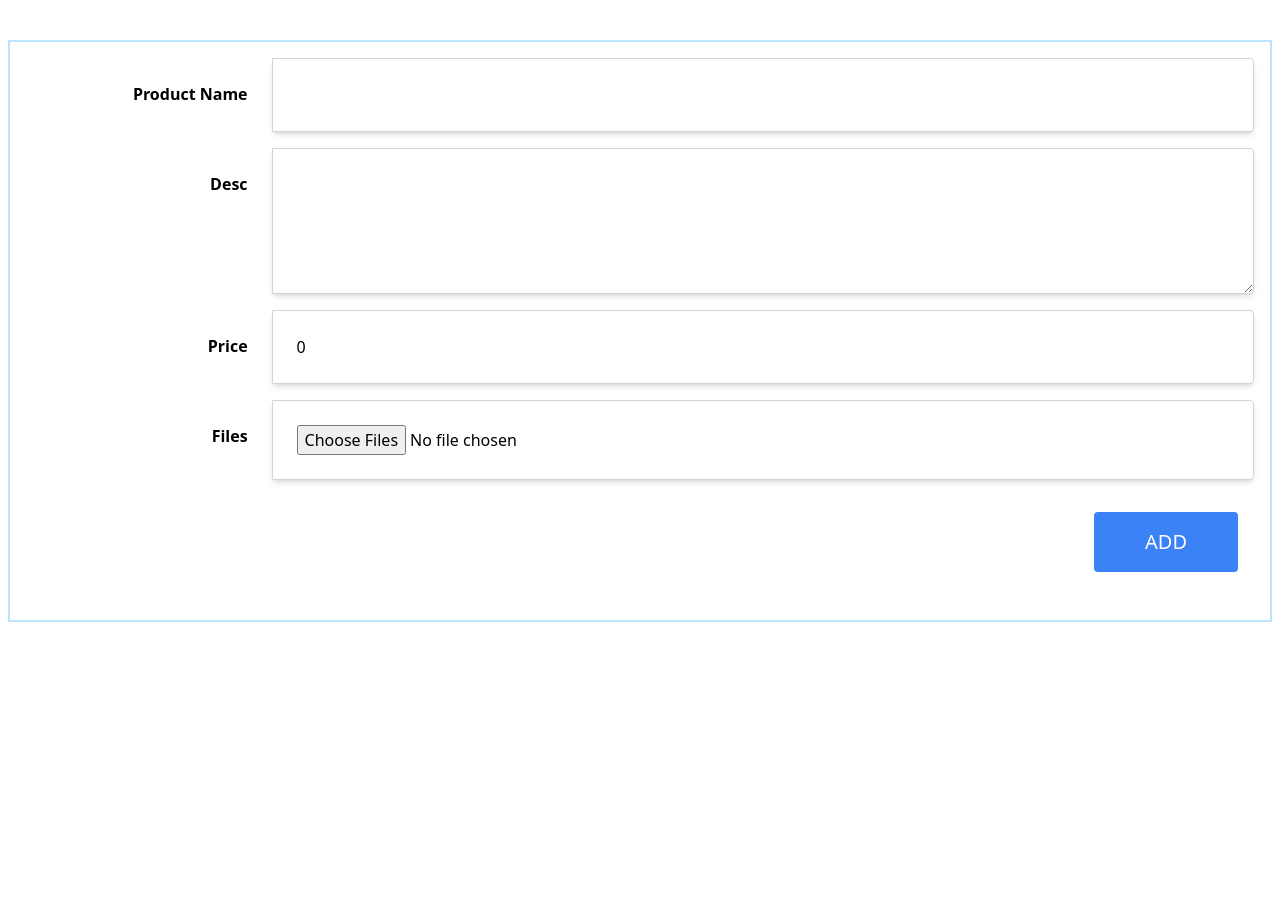
Test: successful registration invalidates a cached product list
Click the button "ADD" at (1166, 542), box [1094,512,1238,572]
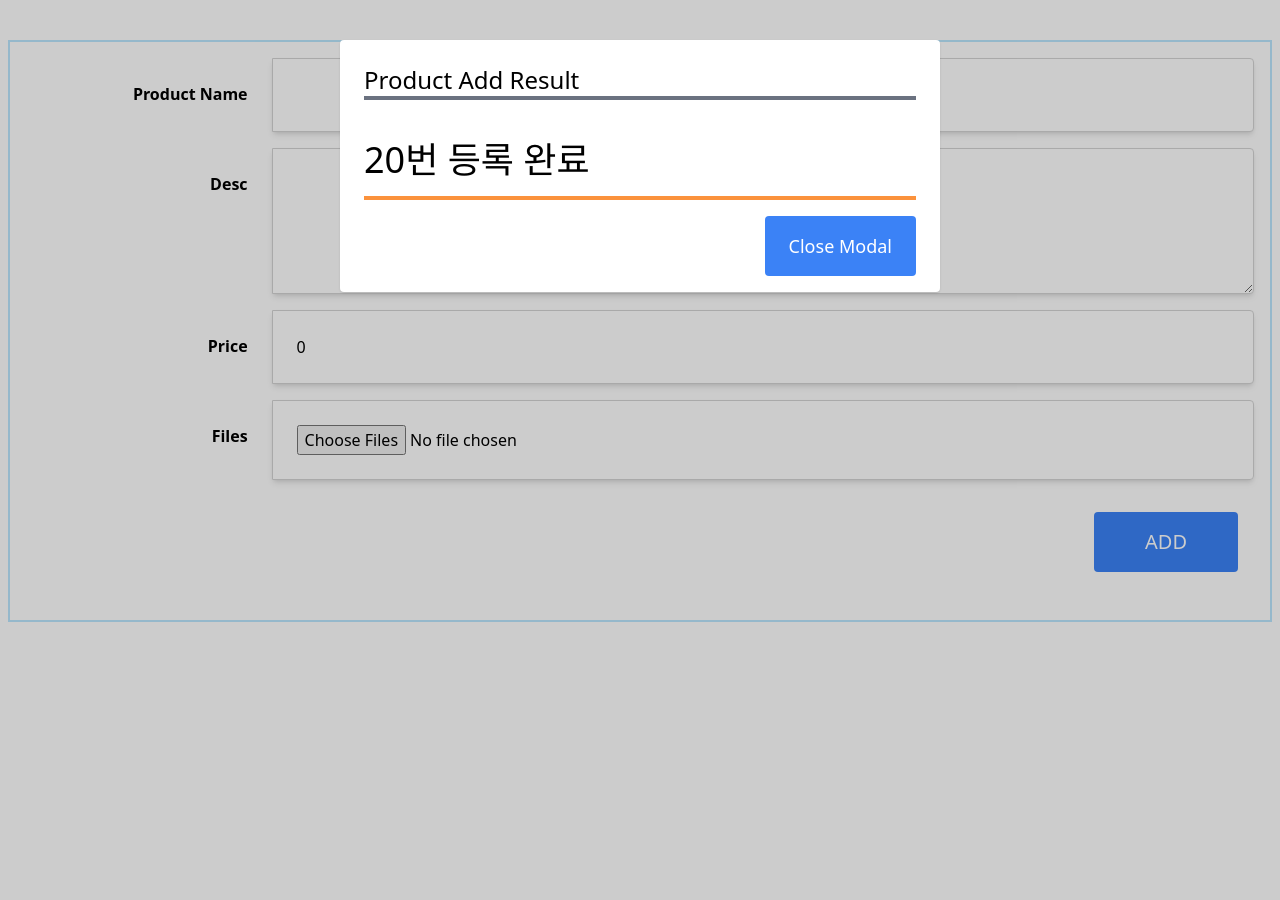
Check: the dialog is shown, box [340,40,940,292]
